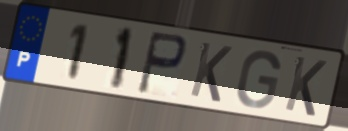1: (106, 25, 134, 92), (66, 23, 91, 83)
G: (234, 49, 283, 110)
K: (187, 39, 235, 105), (282, 53, 330, 119)
P: (134, 29, 189, 98)
